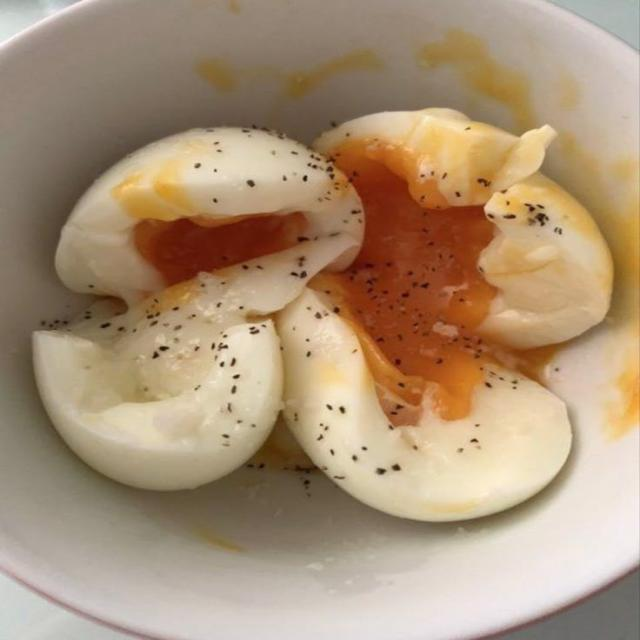eggs: (62, 102, 640, 536)
